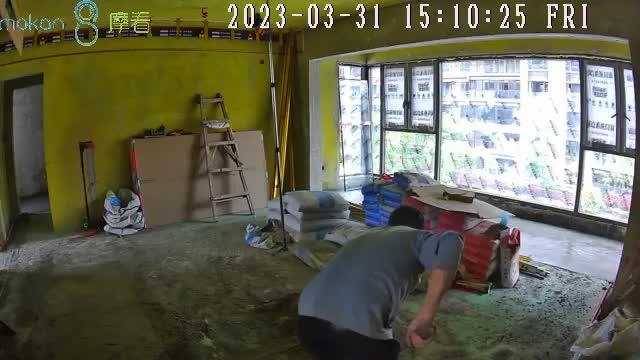people: (296, 205, 466, 360)
window: (337, 62, 635, 228)
